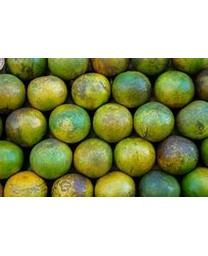lemon: (29, 137, 71, 178), (156, 136, 200, 175), (92, 101, 132, 142), (134, 102, 175, 141), (112, 71, 153, 109), (154, 70, 196, 107), (7, 108, 46, 147), (74, 137, 113, 176), (116, 138, 155, 177), (70, 72, 111, 108), (53, 103, 90, 141), (27, 76, 67, 109), (177, 98, 207, 140)
